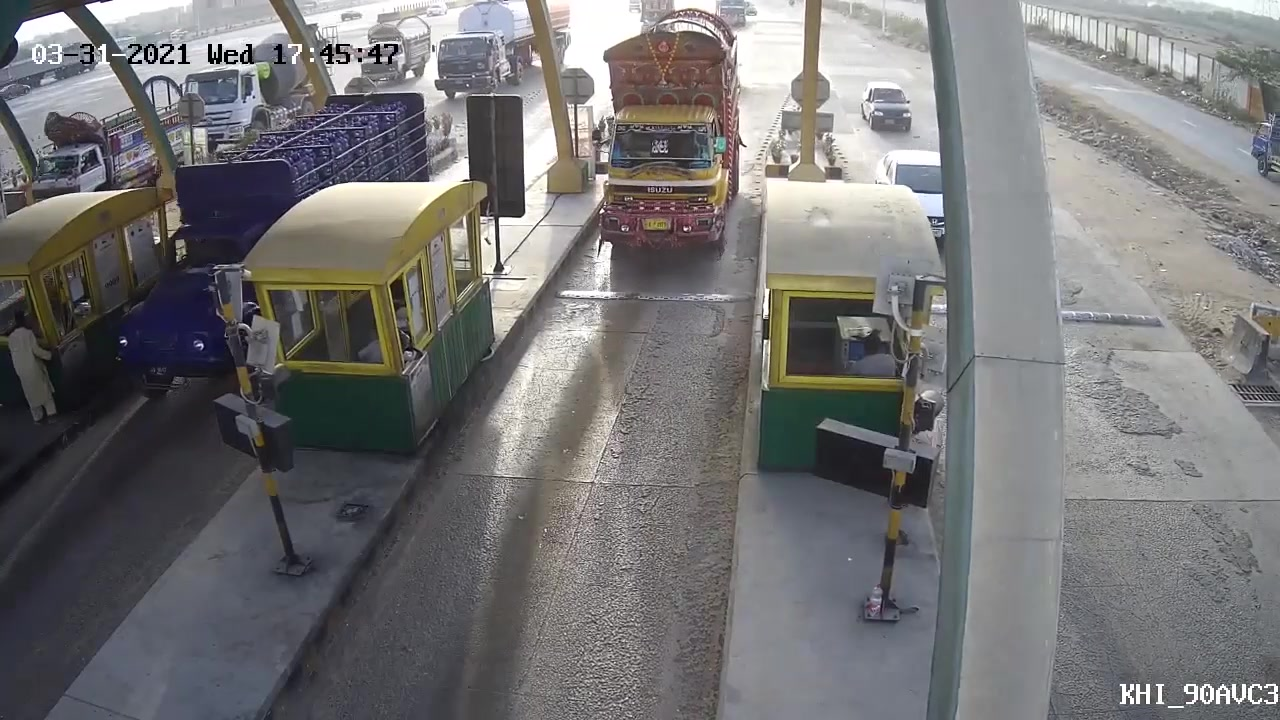F5: (572, 24, 751, 285)
